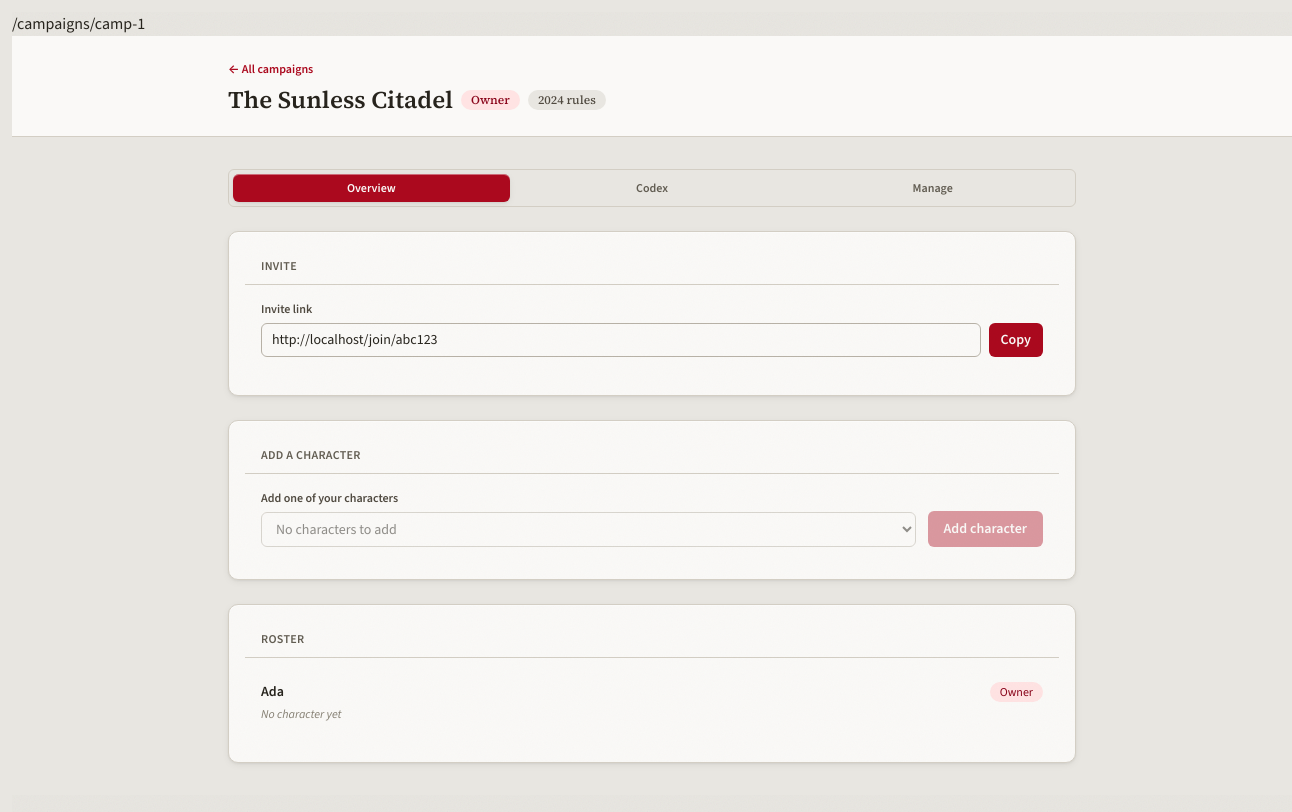
Test case: CampaignDetailPage tabs (#367) › clicking the Codex tab updates the URL and swaps panels
Expected: the heading "The Sunless Citadel Owner 2024 rules" is shown, [228,83,606,116]
Click the tab "Codex". click: (652,188)
box: [514,174,790,202]
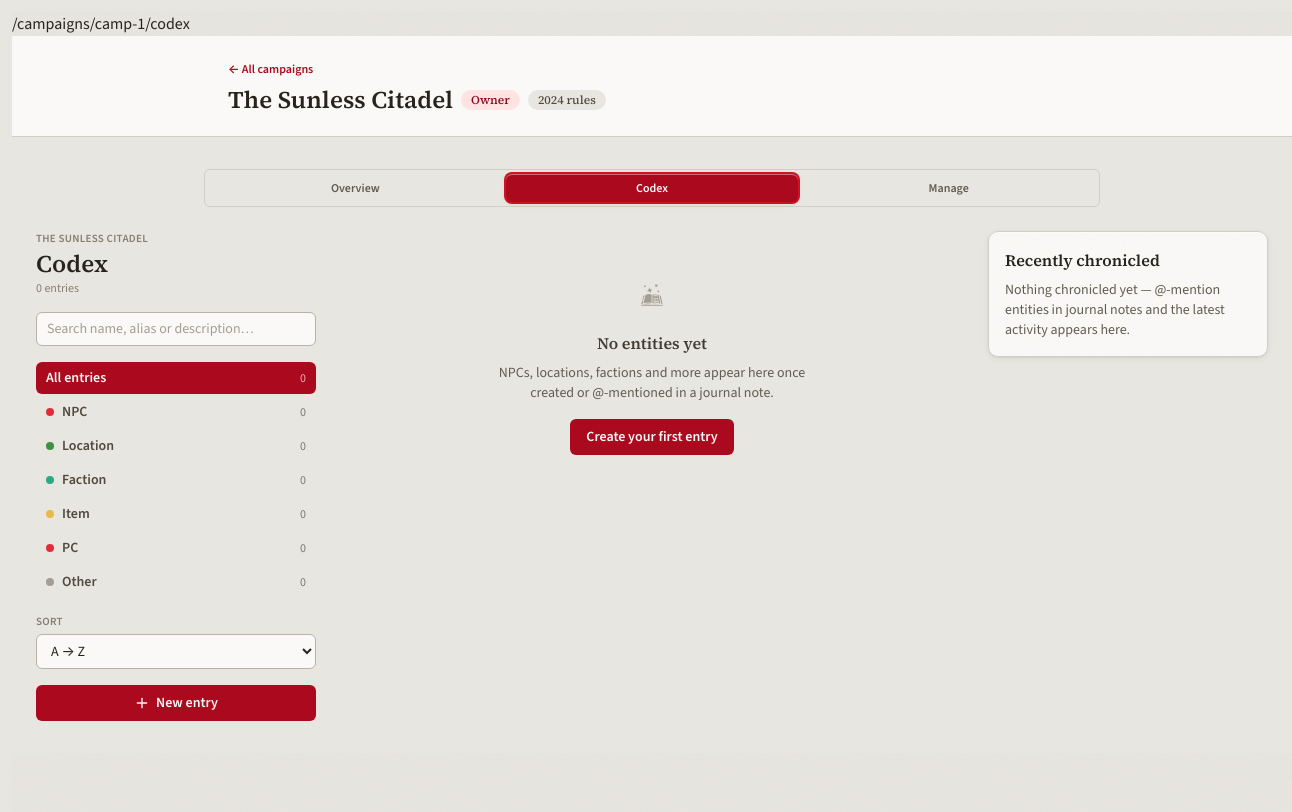
Now the text with test id "location" reads "/campaigns/camp-1/codex", box [12,13,190,34]
Now the heading "Roster" is gone
Click the tab "Overview". click: (355,188)
box: [209,174,502,202]
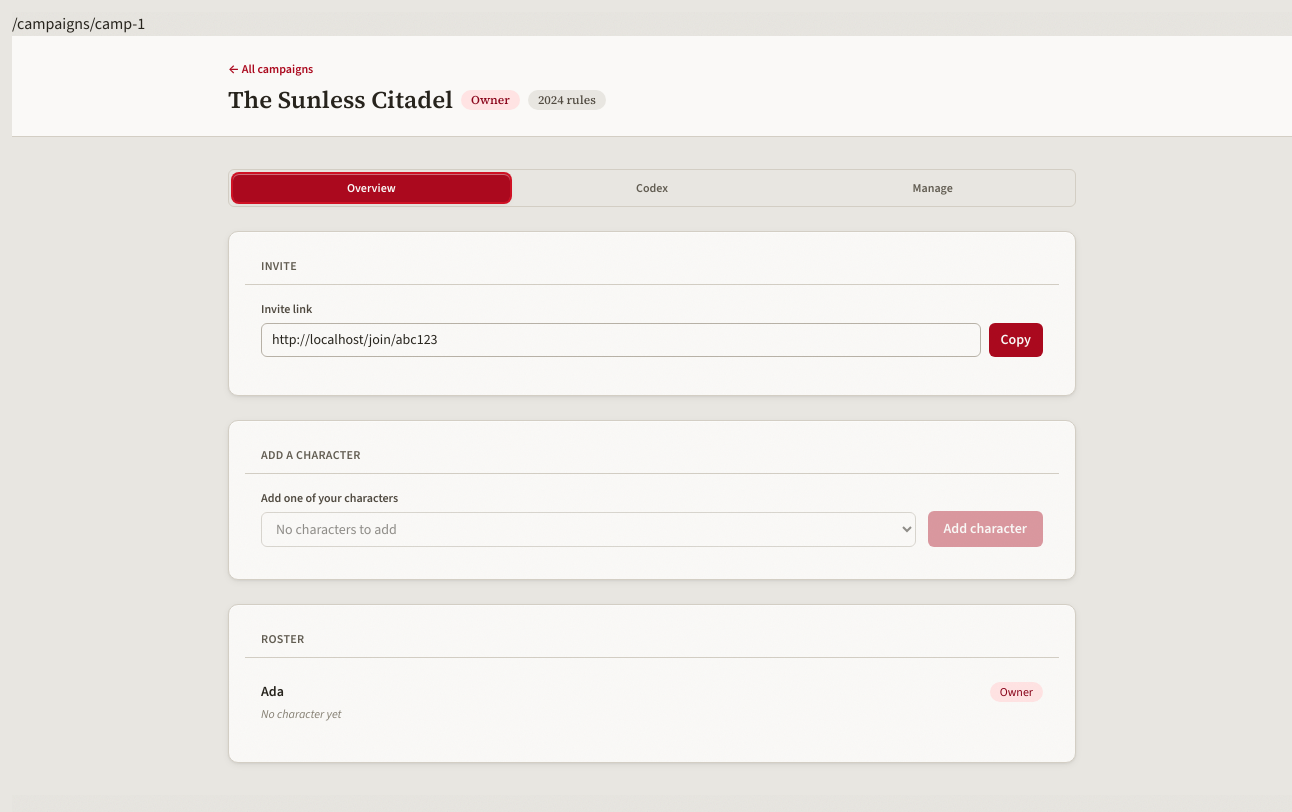
Expected: the text with test id "location" reads "/campaigns/camp-1", [12,13,145,34]
Now the heading "Roster" is shown, box [261,631,304,647]
